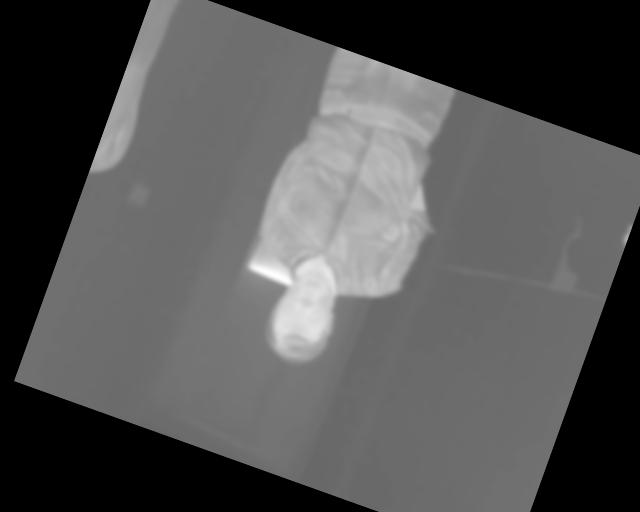face: (255, 262, 350, 374)
